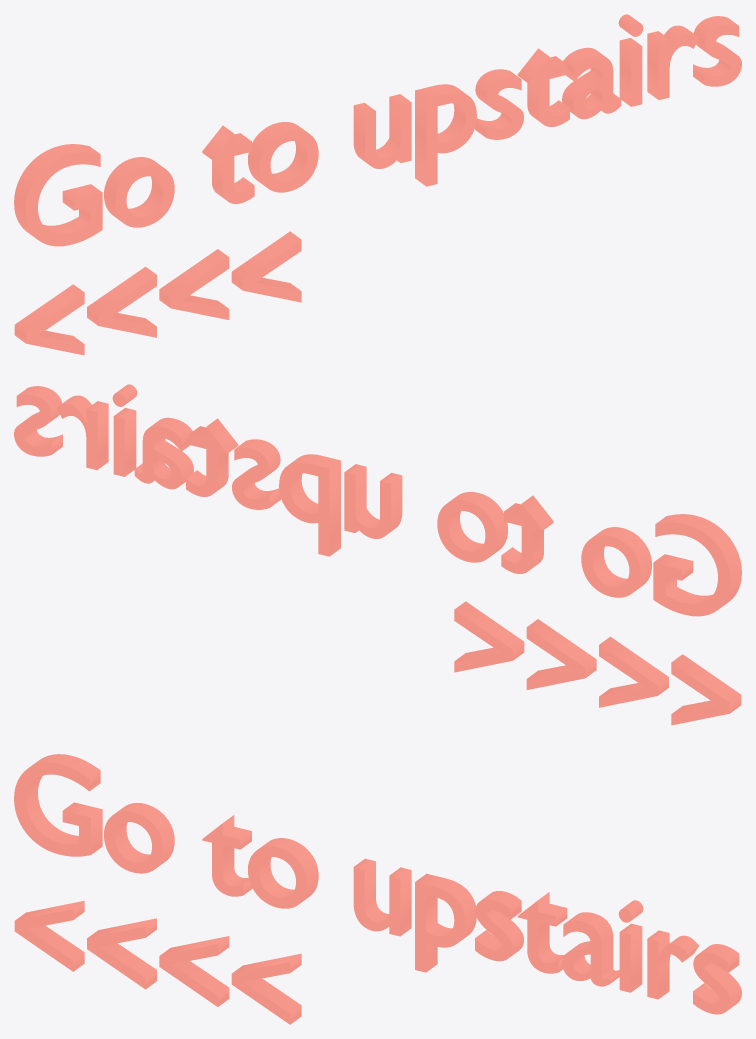
The model's file is goToUpstairs.glb.
The picture shows the model from 3 angles, top to bottom: view 1: azimuth 30°, elevation 25°; view 2: azimuth 150°, elevation 25°; view 3: azimuth 330°, elevation 25°; orthographic projection.
Visible parts, largest first — view 1: Text; view 2: Text; view 3: Text.
Part boxes in pixels (<box>): Text: <box>14,14,741,355</box>; Text: <box>14,384,741,725</box>; Text: <box>14,754,741,1024</box>.
Bounding box in the file's own units: 5.79 × 1.58 × 0.16.
